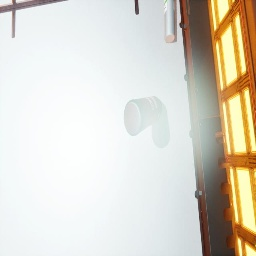0: (164, 0, 175, 43)
NitrogenTank ,: (124, 96, 162, 136)
